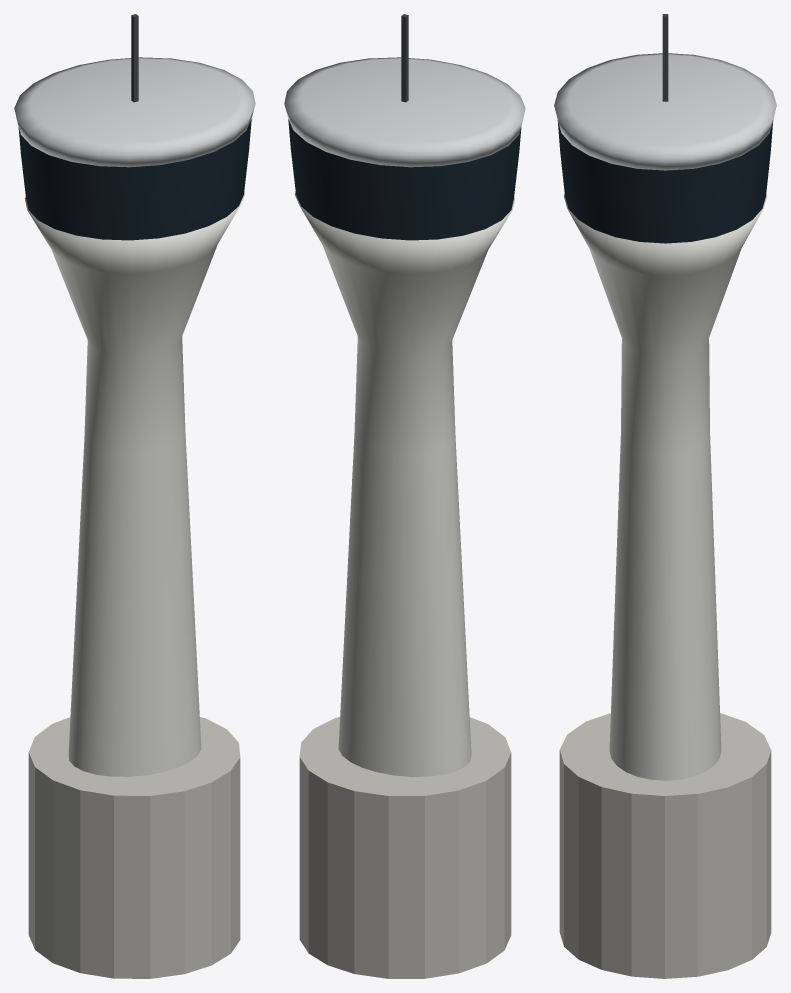
Rendered from sfo-tower_lod0.glb.
3 views of the same model, side by side, from view 1: azimuth 30°, elevation 25°; view 2: azimuth 150°, elevation 25°; view 3: azimuth 270°, elevation 25° (orthographic).
Visible parts, largest first — view 1: sfo-tower_lod0_tower_shaft, sfo-tower_lod0_concrete, sfo-tower_lod0_tower_flare, sfo-tower_lod0_tower_glass, sfo-tower_lod0_dark; view 2: sfo-tower_lod0_tower_shaft, sfo-tower_lod0_concrete, sfo-tower_lod0_tower_flare, sfo-tower_lod0_tower_glass, sfo-tower_lod0_dark; view 3: sfo-tower_lod0_tower_shaft, sfo-tower_lod0_concrete, sfo-tower_lod0_tower_flare, sfo-tower_lod0_tower_glass, sfo-tower_lod0_dark.
Boxes of the visible parts, x1=… form: sfo-tower_lod0_tower_shaft: x1=25, y1=191, x2=245, y2=776; sfo-tower_lod0_concrete: x1=28, y1=717, x2=240, y2=978; sfo-tower_lod0_tower_flare: x1=14, y1=57, x2=255, y2=167; sfo-tower_lod0_tower_glass: x1=18, y1=119, x2=251, y2=240; sfo-tower_lod0_dark: x1=131, y1=14, x2=138, y2=102; sfo-tower_lod0_tower_shaft: x1=294, y1=191, x2=514, y2=776; sfo-tower_lod0_concrete: x1=299, y1=717, x2=511, y2=978; sfo-tower_lod0_tower_flare: x1=284, y1=57, x2=525, y2=167; sfo-tower_lod0_tower_glass: x1=288, y1=119, x2=521, y2=240; sfo-tower_lod0_dark: x1=401, y1=14, x2=408, y2=102; sfo-tower_lod0_tower_shaft: x1=563, y1=194, x2=767, y2=780; sfo-tower_lod0_concrete: x1=559, y1=713, x2=771, y2=978; sfo-tower_lod0_tower_flare: x1=554, y1=53, x2=776, y2=170; sfo-tower_lod0_tower_glass: x1=557, y1=120, x2=773, y2=243; sfo-tower_lod0_dark: x1=662, y1=14, x2=668, y2=101.
Bounding box in the file's own units: 18.4 × 75.36 × 16.56.
